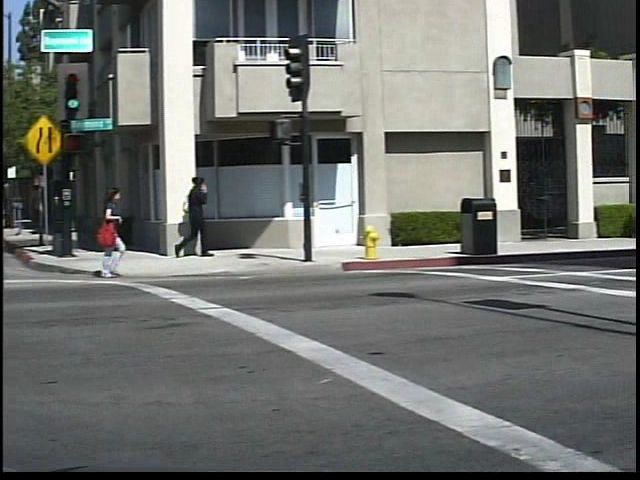person: (90, 182, 141, 278), (178, 170, 224, 259)
